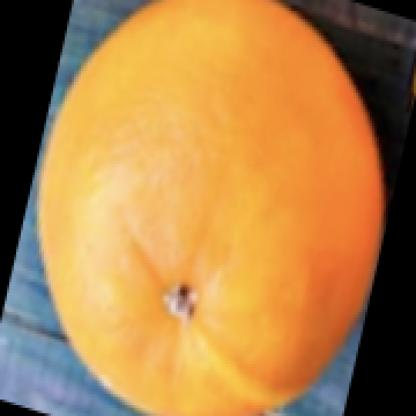fresh: (38, 5, 390, 416)
